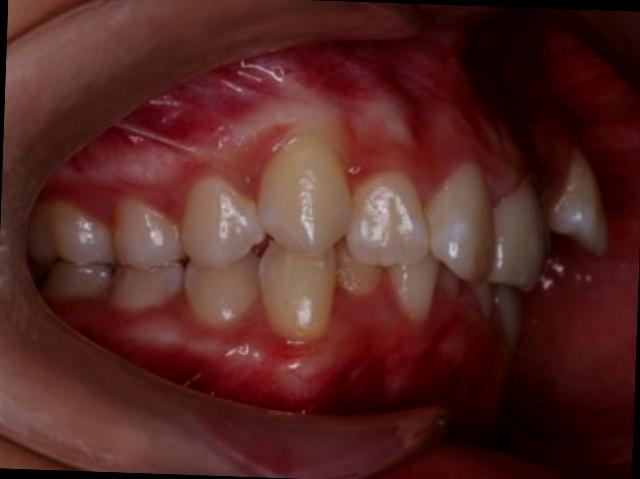canine class II 1/2: (182, 121, 360, 344)
molar class II 1/2: (25, 193, 116, 310)
